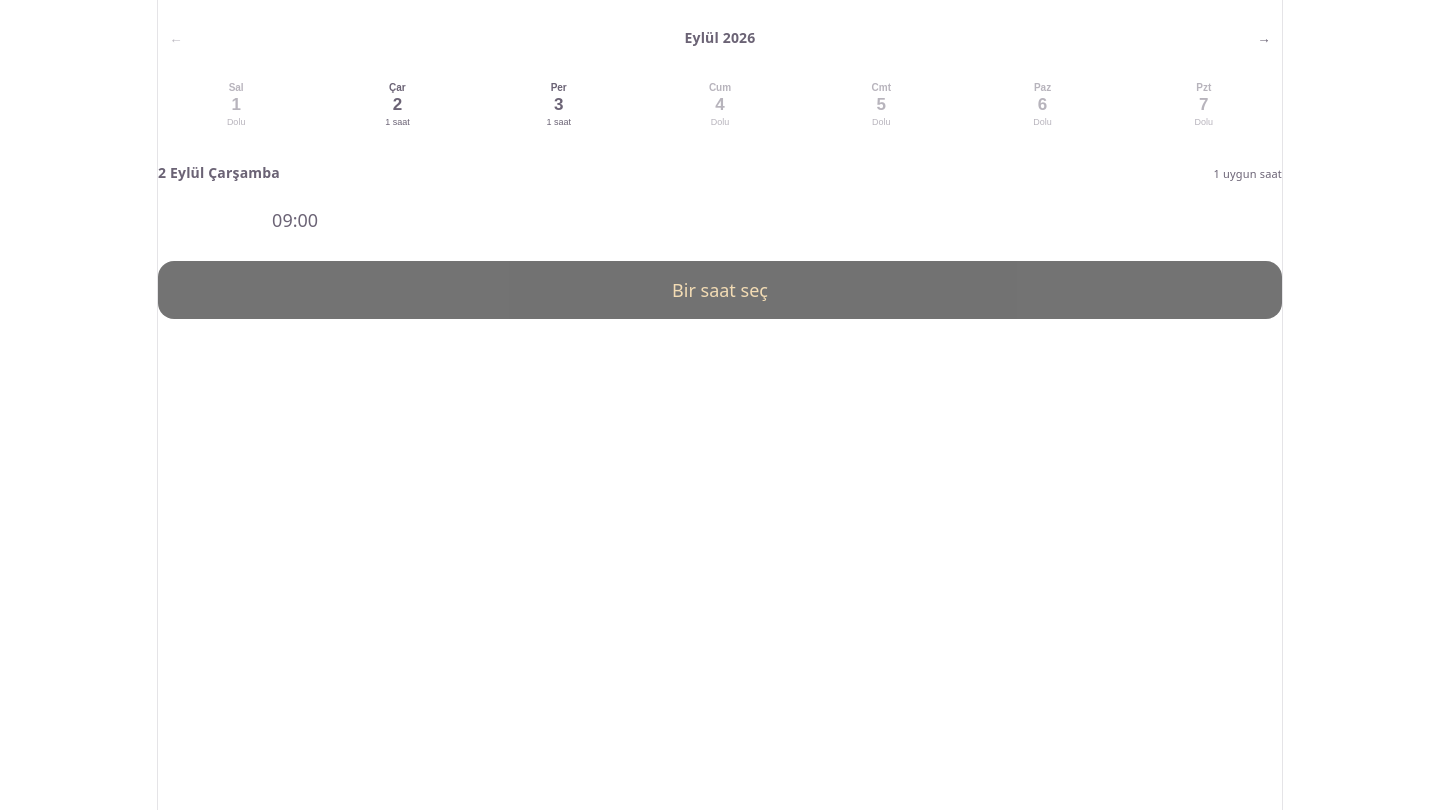
Test: SlotPicker › clears the selected time when the day changes
What coordinates should you click on to do the following:
click the button named "09:00 saatini seç"
I would click on:
 (295, 220)
Its box is [158,199,432,241].
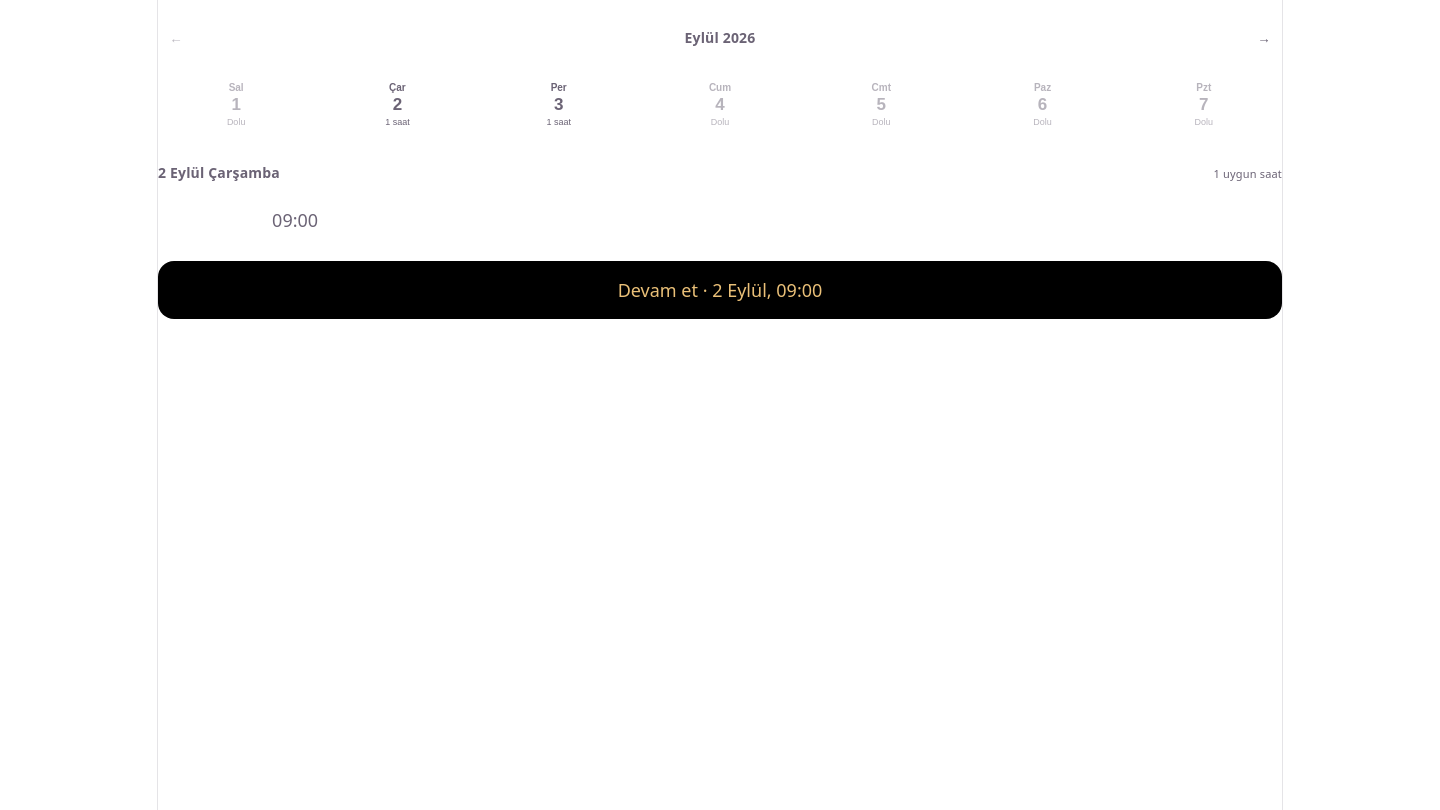
Expected: the button "Devam et · 2 Eylül, 09:00" is enabled, [158,261,1282,319]
What coordinates should you click on to do the following:
click the button with aria-label "3 Eylül Perşembe, 1 uygun saat"
I would click on:
 (559, 104)
Its box is [481,68,637,140].
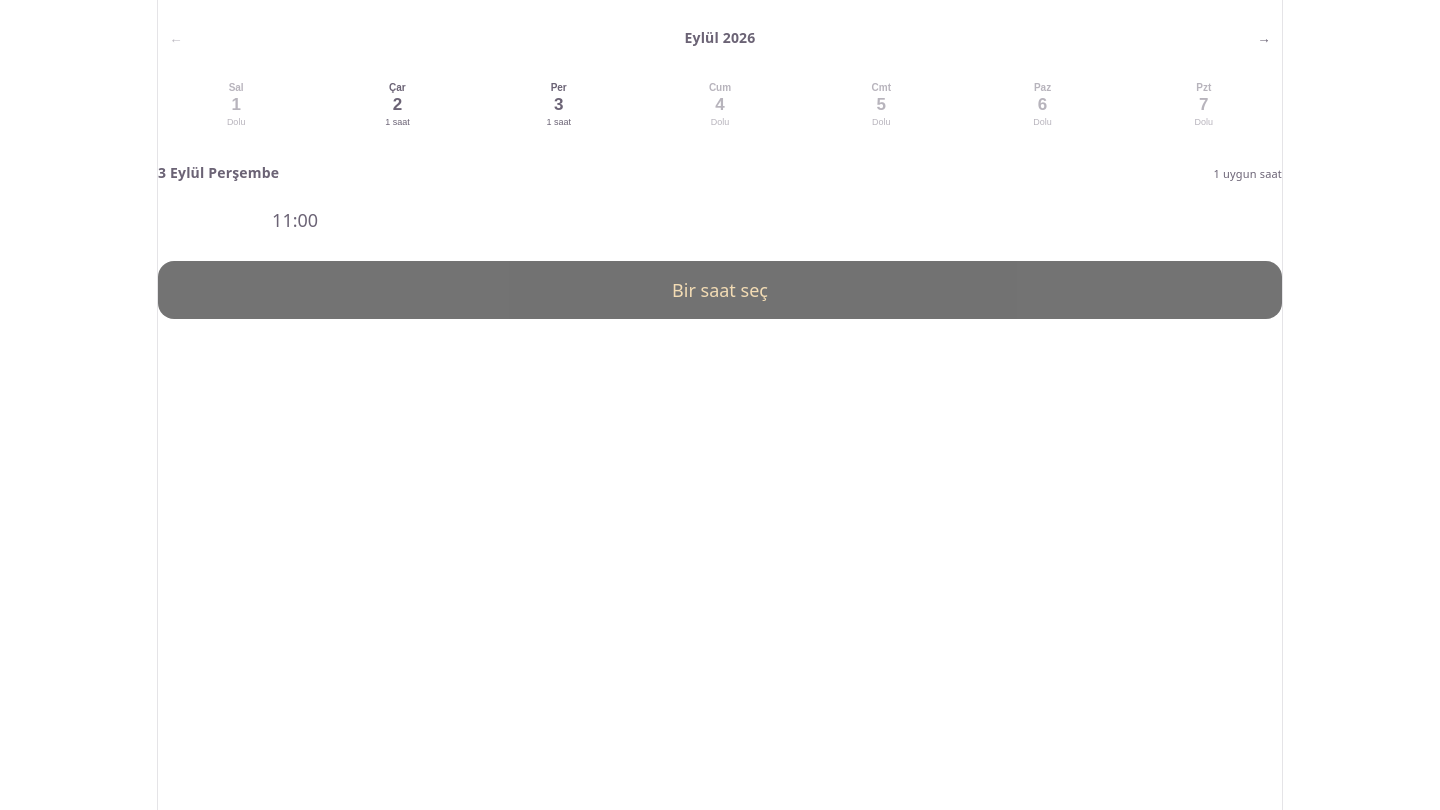
Expected: the button "Bir saat seç" is disabled, [158,261,1282,319]
